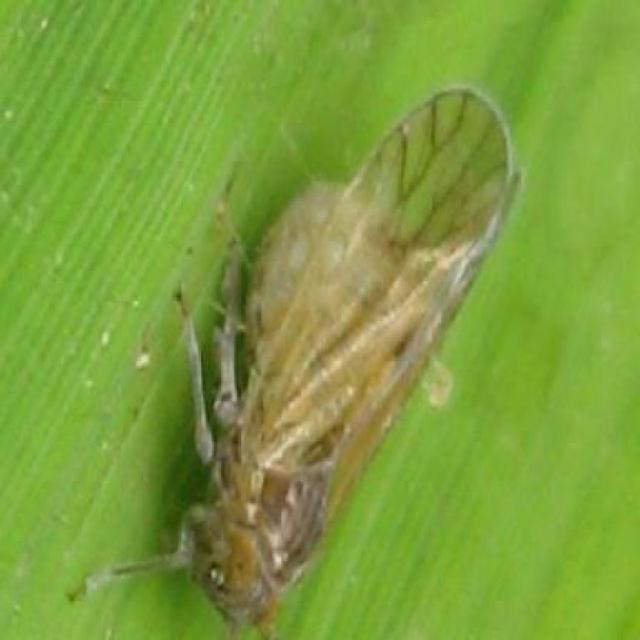brown-planthopper: (150, 79, 536, 638)
